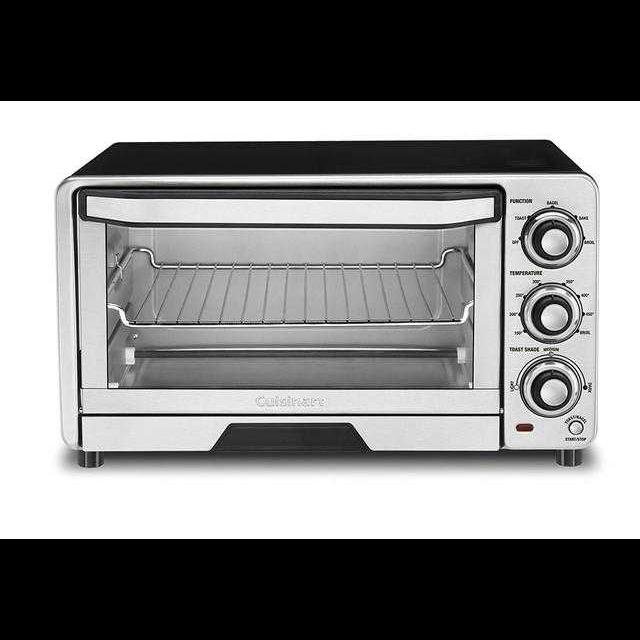Oven: (51, 148, 602, 466)
